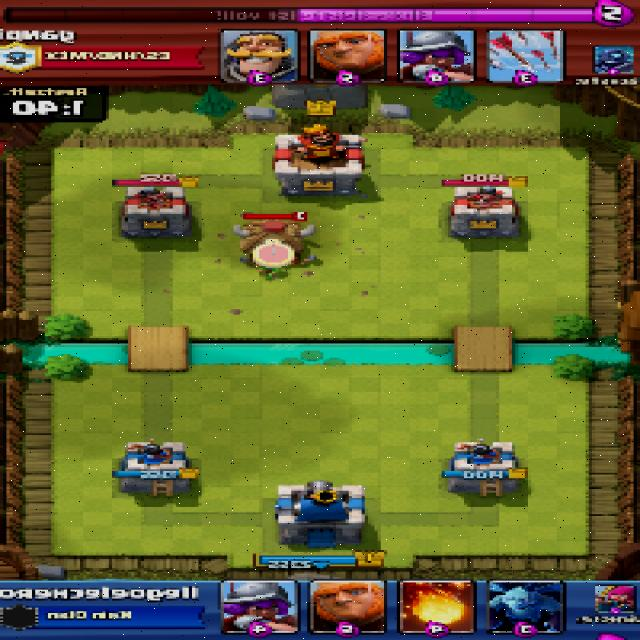Enemy-GoblinHut: (240, 221, 316, 262)
